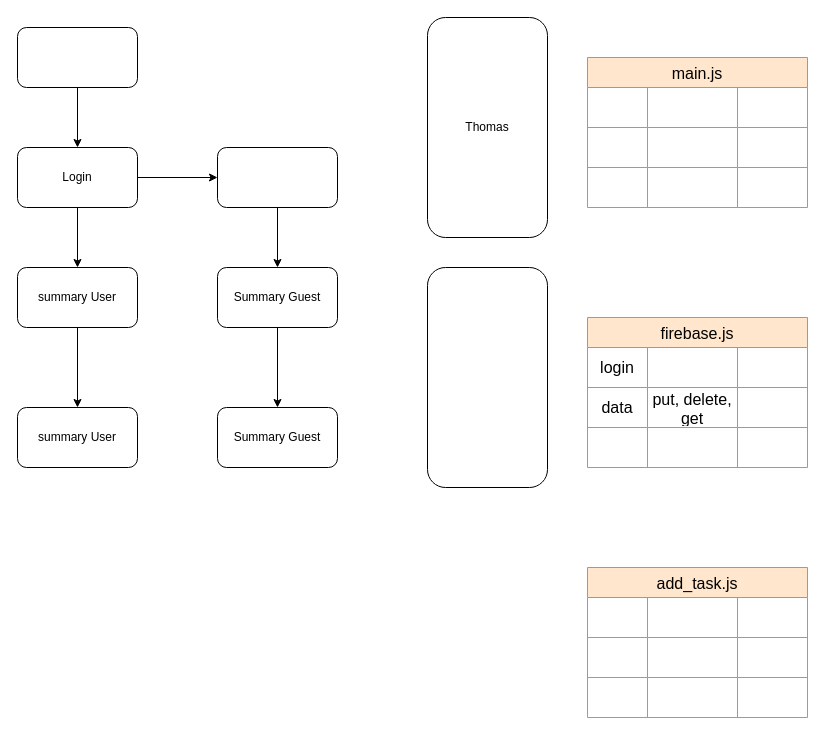
This 825x735 diagram has some shape labels left out. The shapes that lost their labels are listed below. From the top down, each one's centre as x and y in pixels, then its label:
At (77,57): "page1".
At (277,177): "SignUp".
